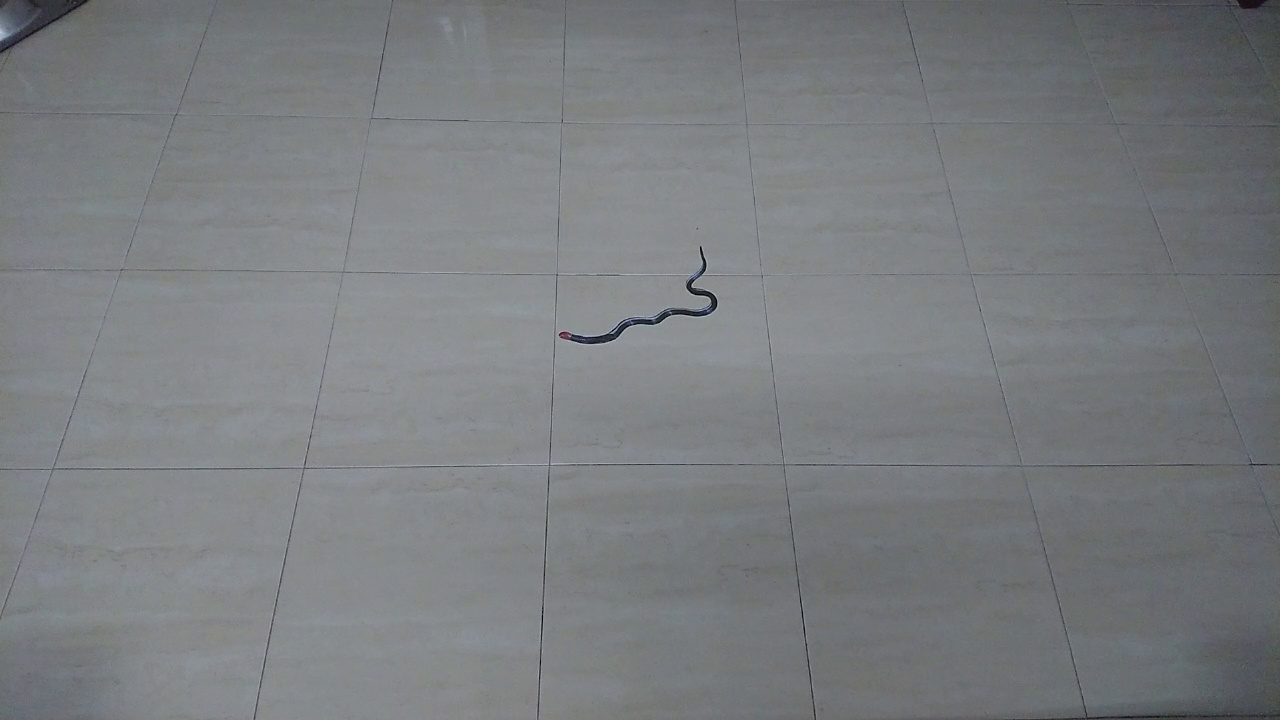snake: (547, 240, 729, 353)
